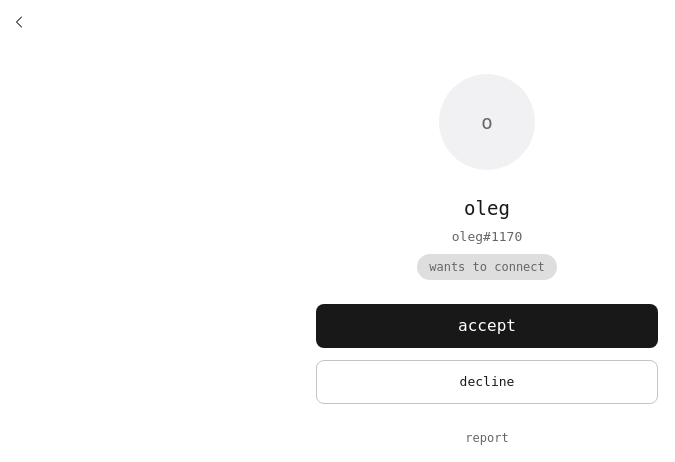
S7 contact profile › incoming request offers accept / decline; decline is final for the target
Expected: the text with test id "badge" reads "wants to connect", [429,260,545,274]
Expected: the button with test id "action-accept" is shown, [316,304,658,348]
Click the button with test id "action-decline". click: coordinates (487, 382)
box: [316,360,658,404]
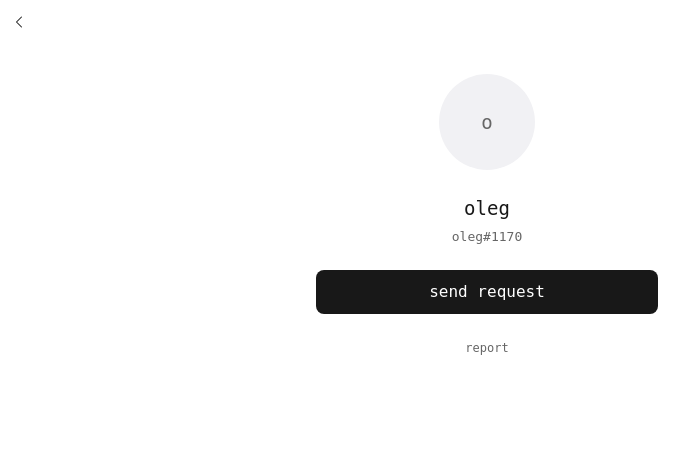
Now the button with test id "action-add" is shown, box [316,270,658,314]
